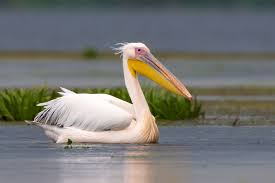pelican: (24, 42, 192, 149)
